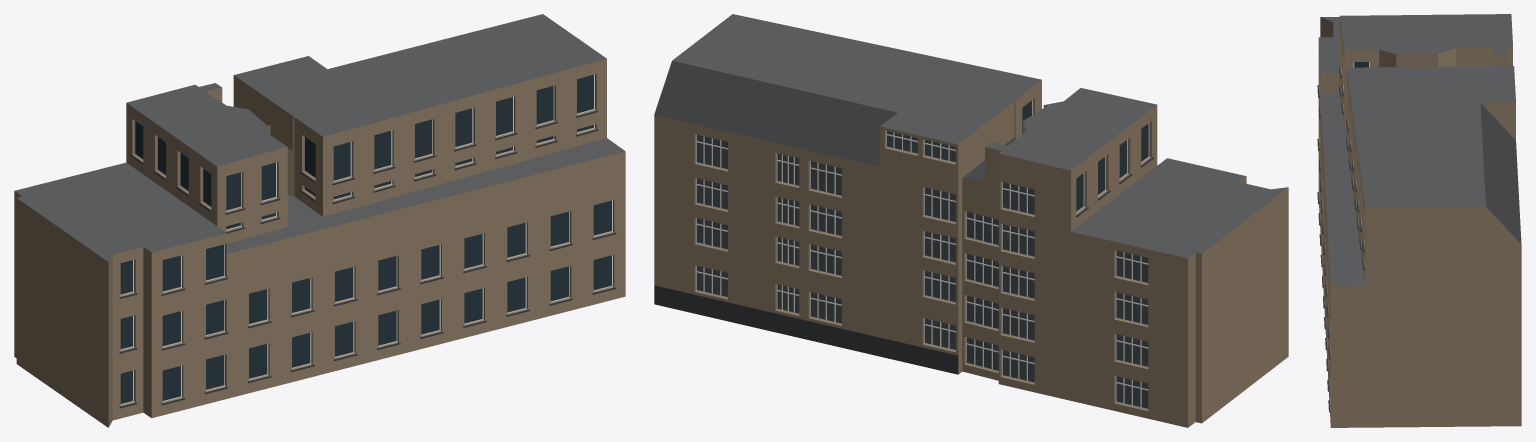
File: recipe-large-haarlemmerweg-77-106960.glb
3 views of the same model, side by side, from view 1: azimuth 30°, elevation 25°; view 2: azimuth 150°, elevation 25°; view 3: azimuth 270°, elevation 25° (orthographic). The views are drawn at different scales.
Visible parts, largest first — view 1: haarlemmerweg-77-106960; view 2: haarlemmerweg-77-106960; view 3: haarlemmerweg-77-106960.
Boxes of the visible parts, x1,y1,x2,y2 form: haarlemmerweg-77-106960: [14, 14, 625, 427]; haarlemmerweg-77-106960: [654, 14, 1288, 427]; haarlemmerweg-77-106960: [1317, 14, 1521, 427].
Size of the model in its own units: 38.86 by 15.96 by 13.37.
